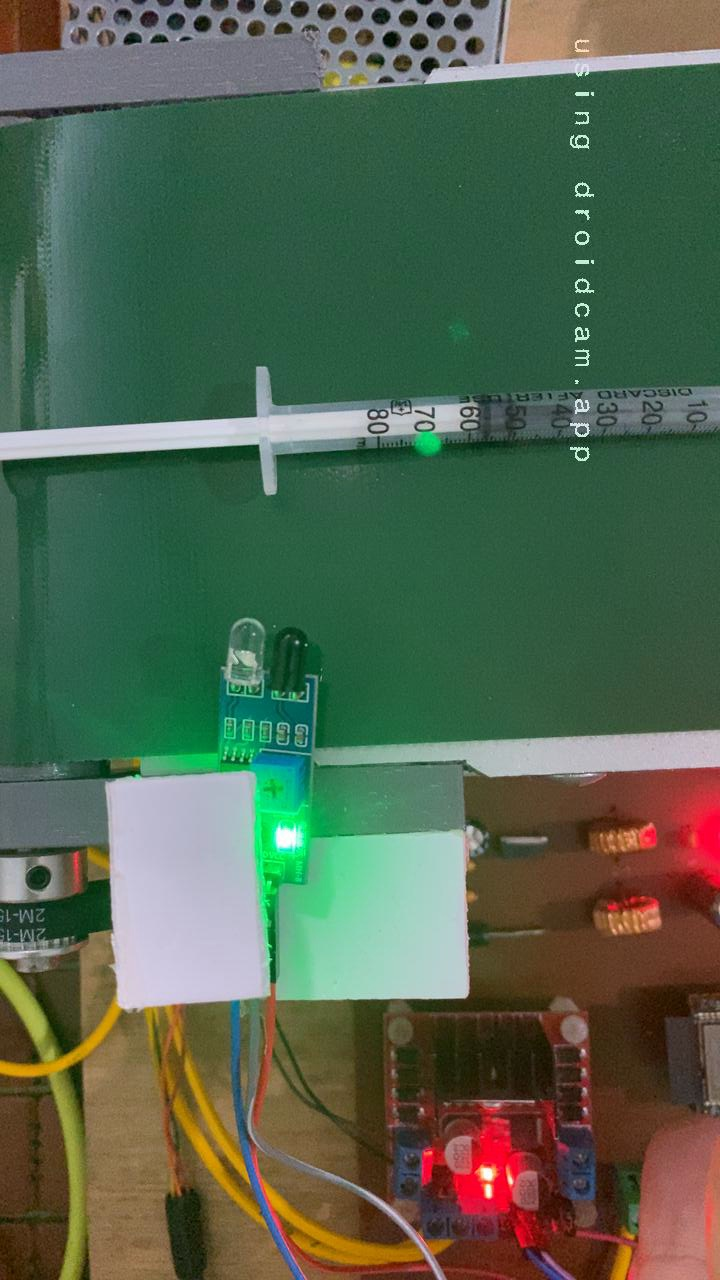syringe: (0, 361, 515, 503)
